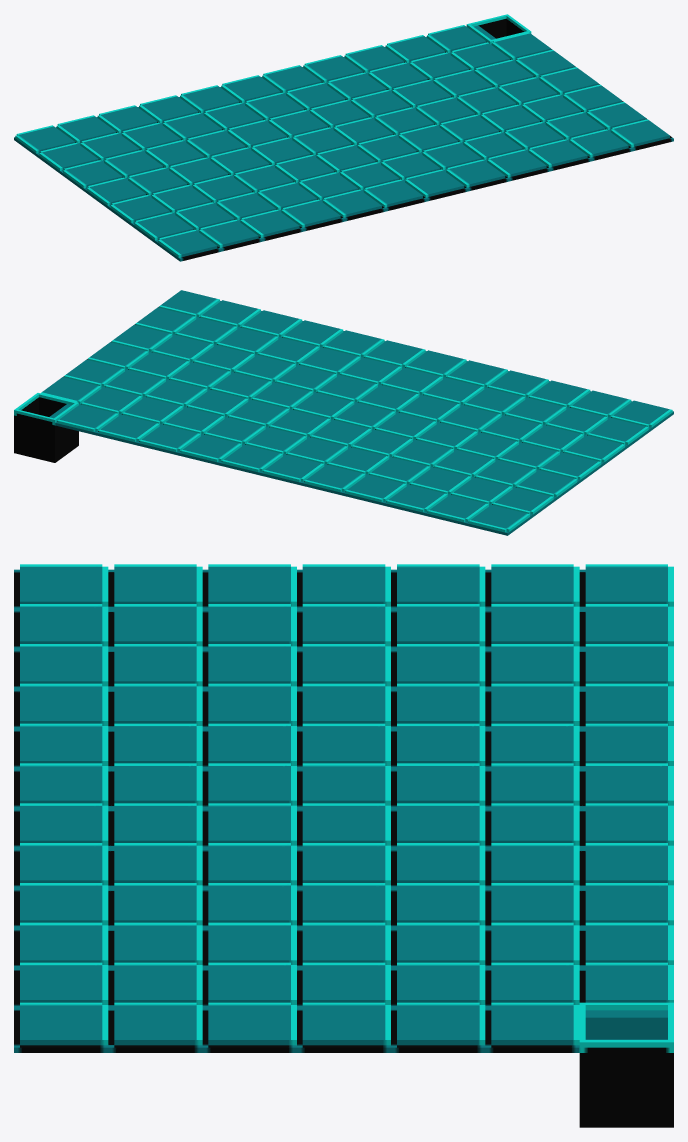
The model's file is FloorStairsTopRight.glb.
3 renders of one model, top to bottom at view 1: azimuth 30°, elevation 25°; view 2: azimuth 150°, elevation 25°; view 3: azimuth 270°, elevation 25°, orthographic. The views are drawn at different scales.
Visible parts, largest first — view 1: FloorStairsTopRight; view 2: FloorStairsTopRight; view 3: FloorStairsTopRight.
Boxes of the visible parts, box(x1,y1,x2,y2) form: FloorStairsTopRight: box(14, 14, 673, 261); FloorStairsTopRight: box(14, 290, 673, 535); FloorStairsTopRight: box(14, 564, 673, 1127).
Size of what is drawn, in the model's own units: 19.2 by 1.6 by 11.2.
1 material, 1 textured.
